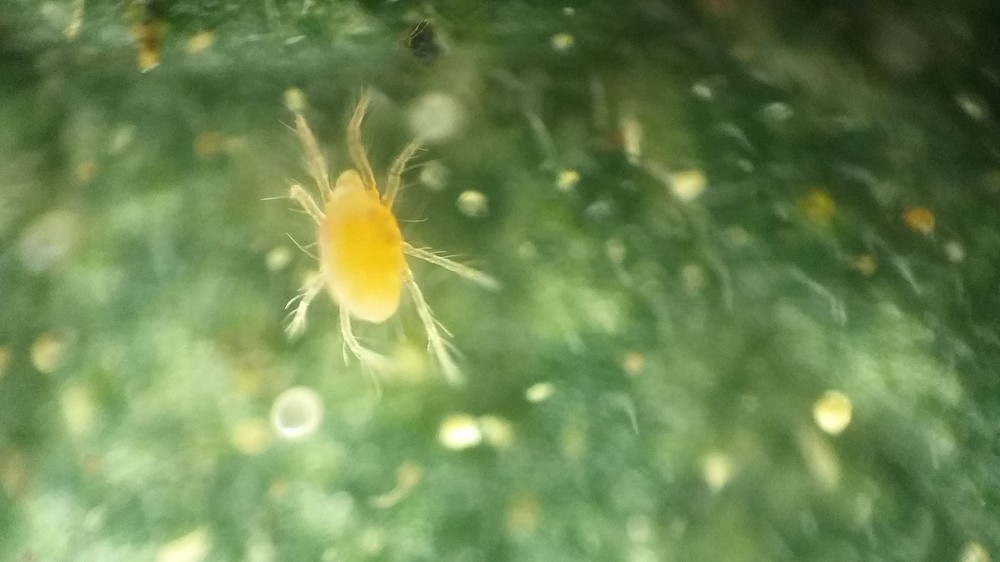Aracnido Rojo: (241, 86, 507, 401)
